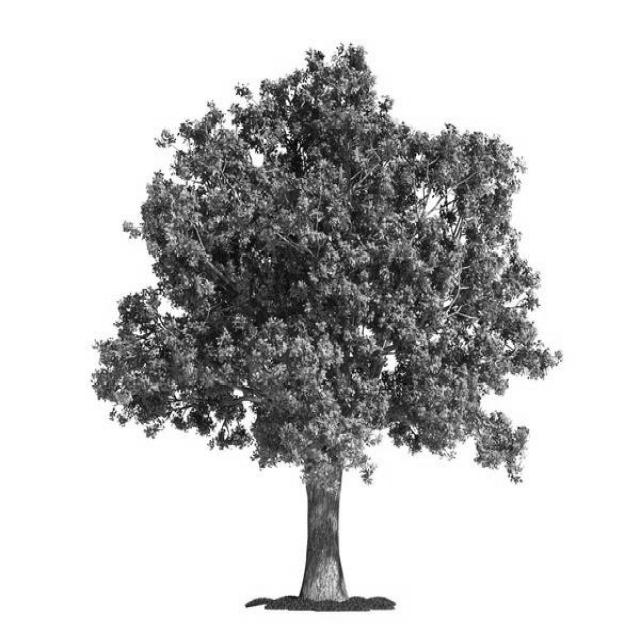Tree: (93, 47, 562, 612)
